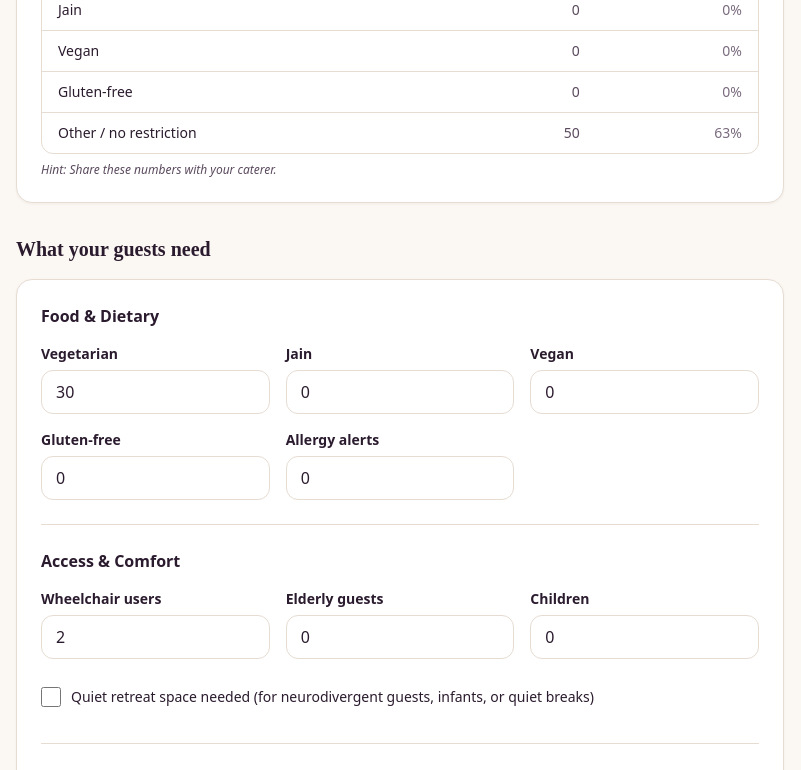
UI: Guests Page & Components (TASK 2 & 4) › count above guestCount shows inline error and saves nothing
(page scrolled)
Replace the text in the number field labelled "Vegetarian" with "90": (155, 392) [41, 370, 270, 414]
(page scrolled)
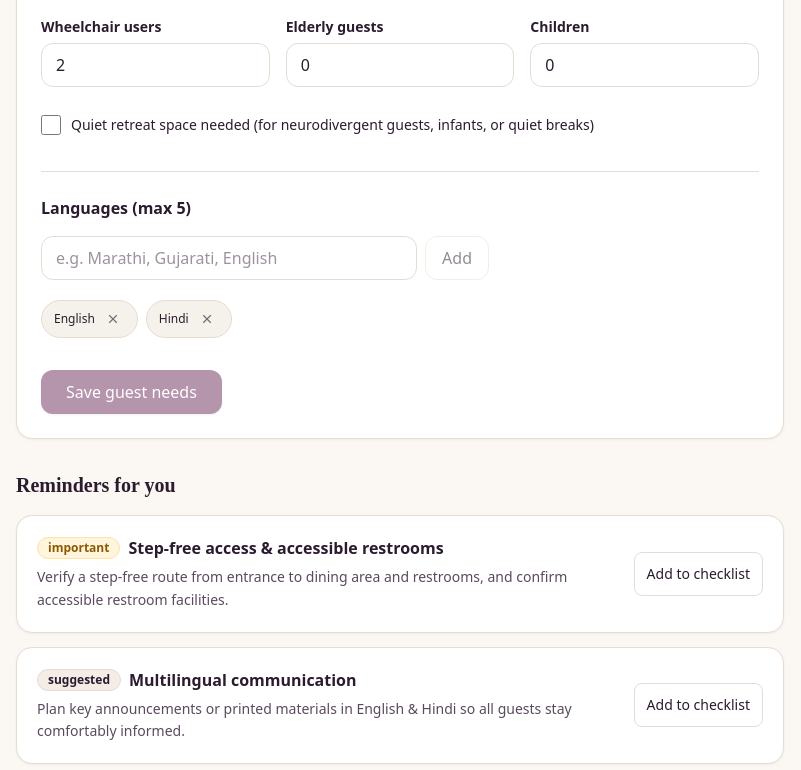
Check: the button "Save guest needs" is disabled, box [41, 370, 222, 414]
